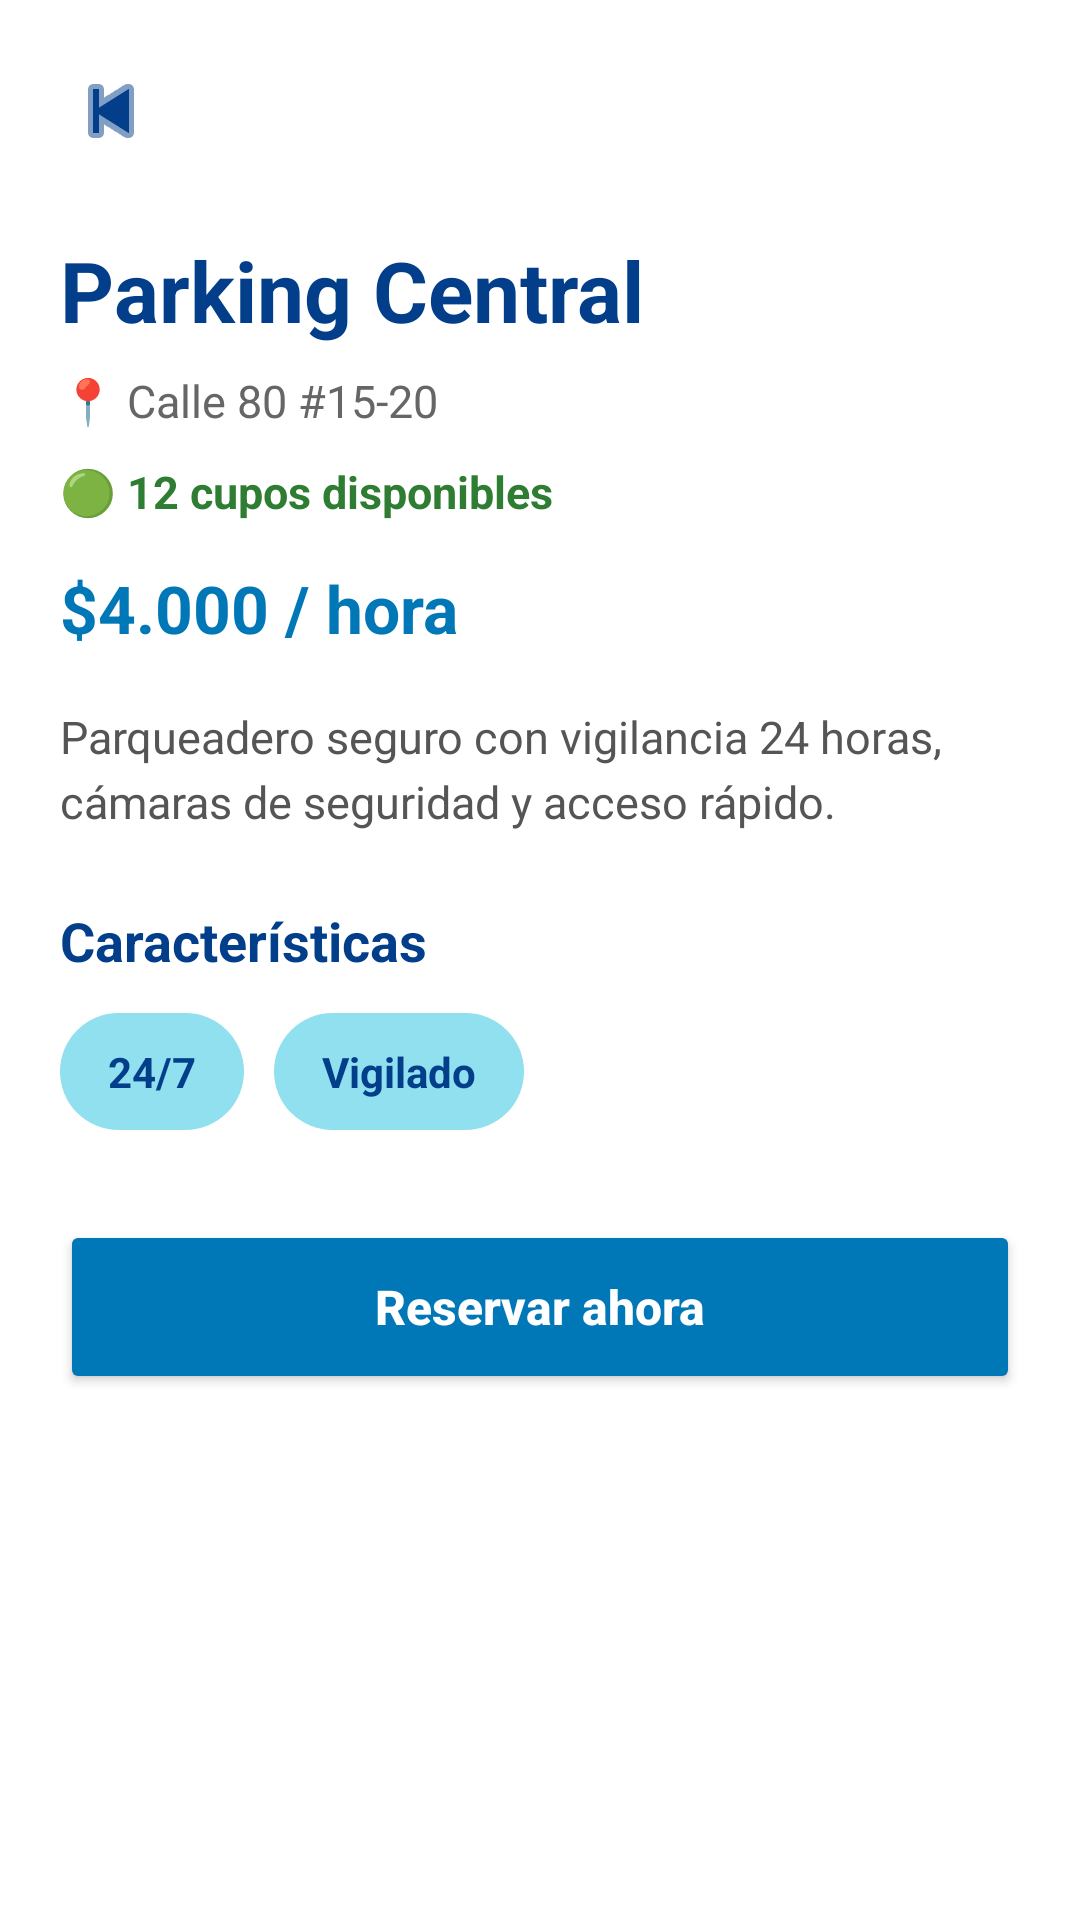

Icons on this 1080w x 1920h Android screen, each with the point to tap as point (x, y):
previous: point (111, 111)
